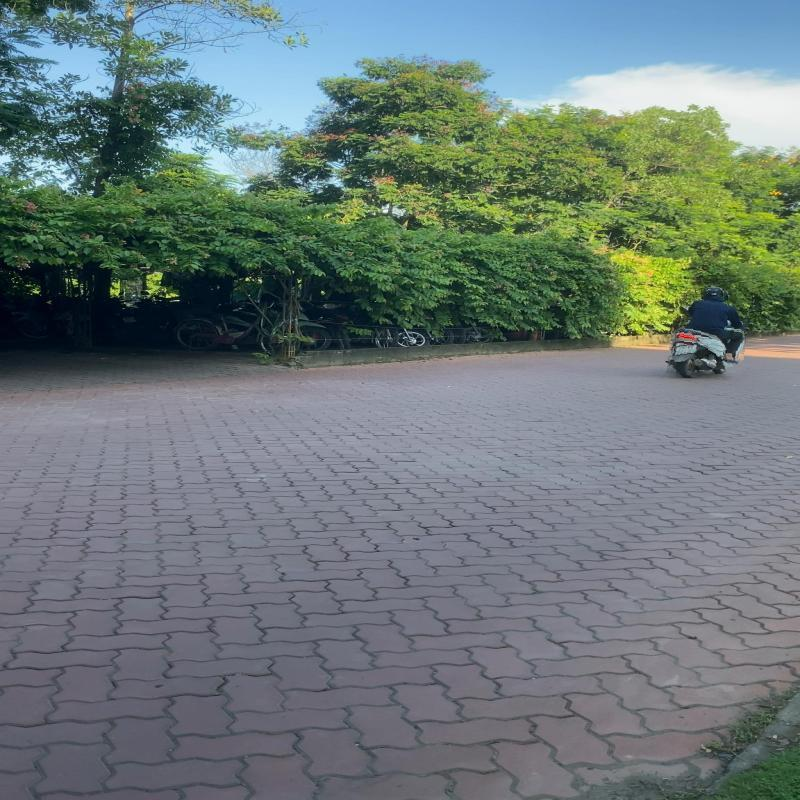helmet: (700, 286, 724, 300)
licenseplate: (675, 344, 699, 356)
motorcyclist: (668, 285, 748, 380)
